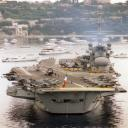Portanaves: (2, 4, 128, 116)
